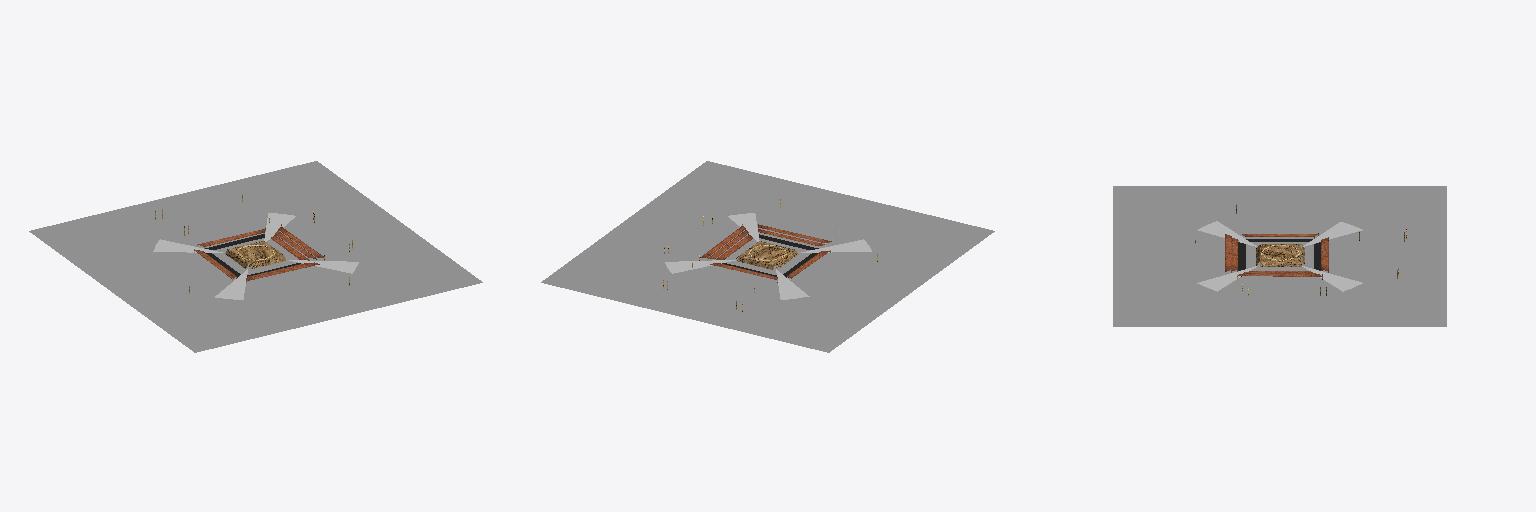
3 views of the same model, side by side, from view 1: azimuth 30°, elevation 25°; view 2: azimuth 150°, elevation 25°; view 3: azimuth 270°, elevation 25° (orthographic).
Visible parts, largest first — view 1: floor_Plane, Plane.001; view 2: floor_Plane, Plane.001; view 3: floor_Plane, Plane.001.
Boxes of the visible parts, x1=… form: floor_Plane: x1=29, y1=161, x2=482, y2=352; Plane.001: x1=228, y1=241, x2=283, y2=263; floor_Plane: x1=541, y1=161, x2=994, y2=352; Plane.001: x1=740, y1=241, x2=794, y2=264; floor_Plane: x1=1113, y1=186, x2=1446, y2=326; Plane.001: x1=1260, y1=244, x2=1301, y2=261.
Bounding box in the file's own units: 15.96 × 0.918 × 15.96.
14 materials, 3 textured.